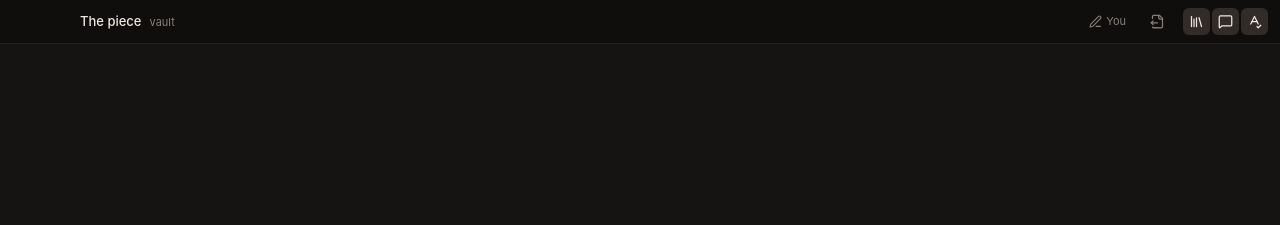
Test: the document menu in the bar › should offer the ways out when a document is open
Click the button named "Document actions".
click(1158, 22)  # box x1=1144 y1=8 x2=1171 y2=35
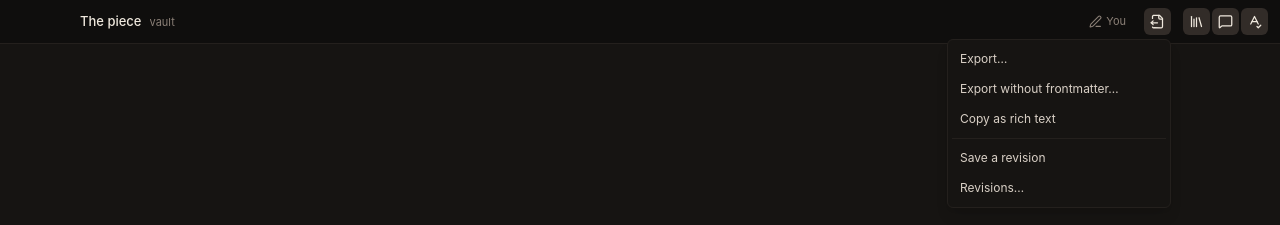
Result: the menu item "Export…" is shown at x1=952 y1=44 x2=1166 y2=74
Result: the menu item "Copy as rich text" is shown at x1=952 y1=104 x2=1166 y2=134
